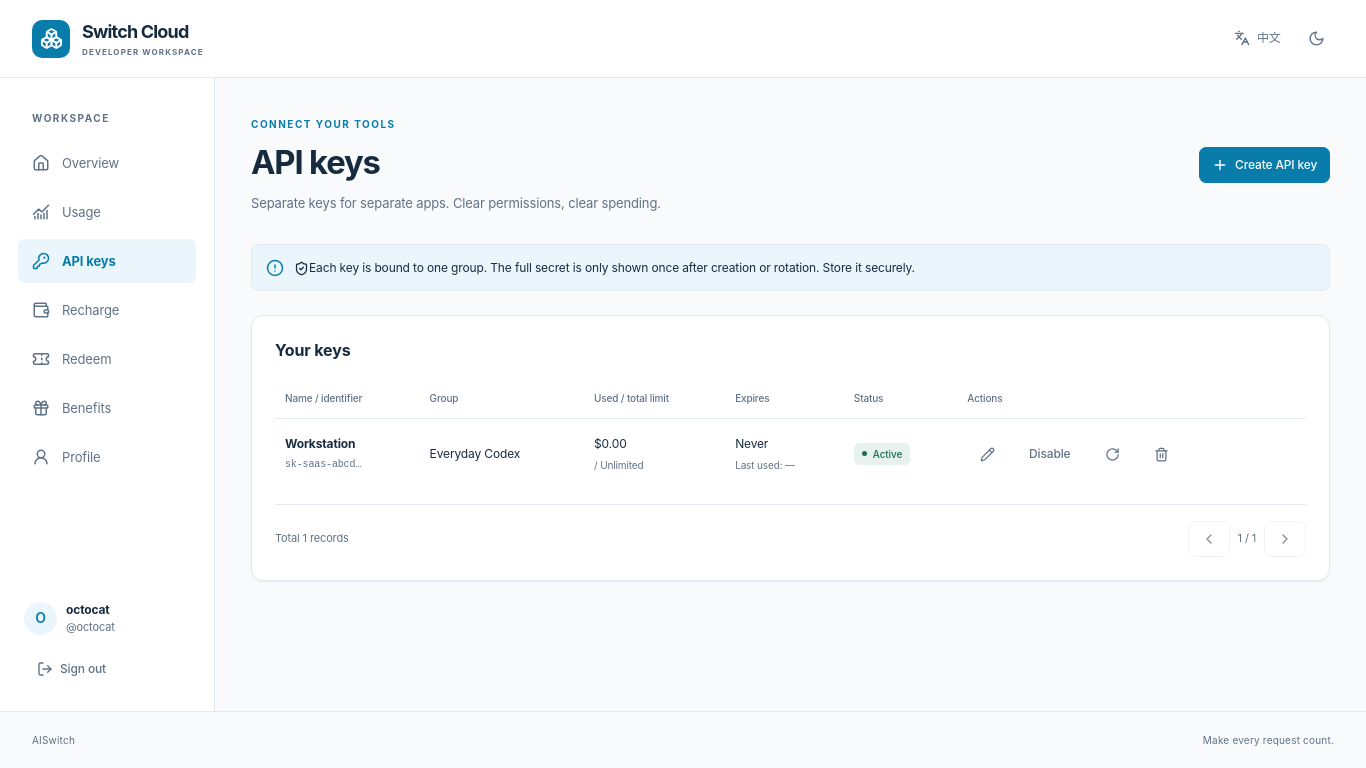
Test: SaaS user portal › creates a key with a fixed group and forgets the secret after closing
This screenshot has width=1366, height=768.
Click the button "Create API key". click: (1264, 165)
box: [1199,147,1330,183]
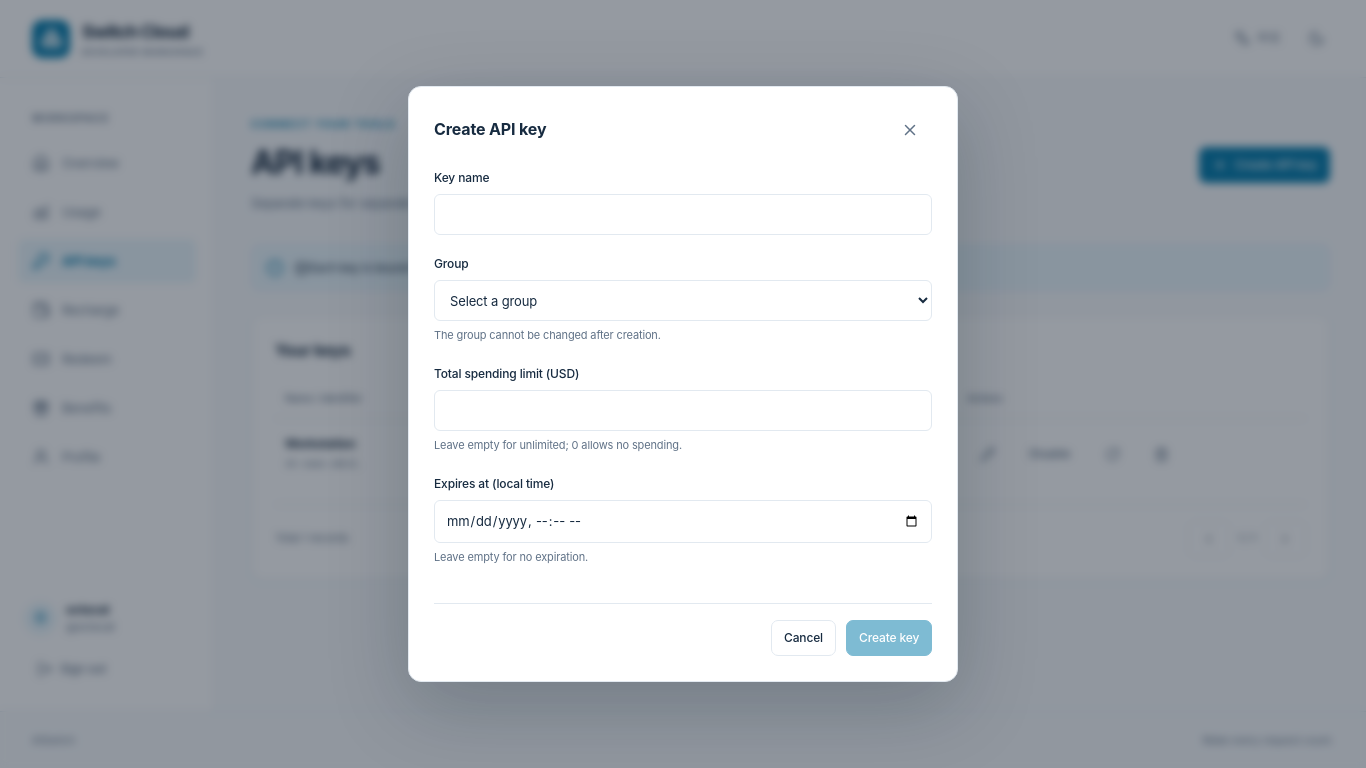
Type "Laptop" into the field labelled "Key name". click: (683, 214)
box: [434,194,932,235]
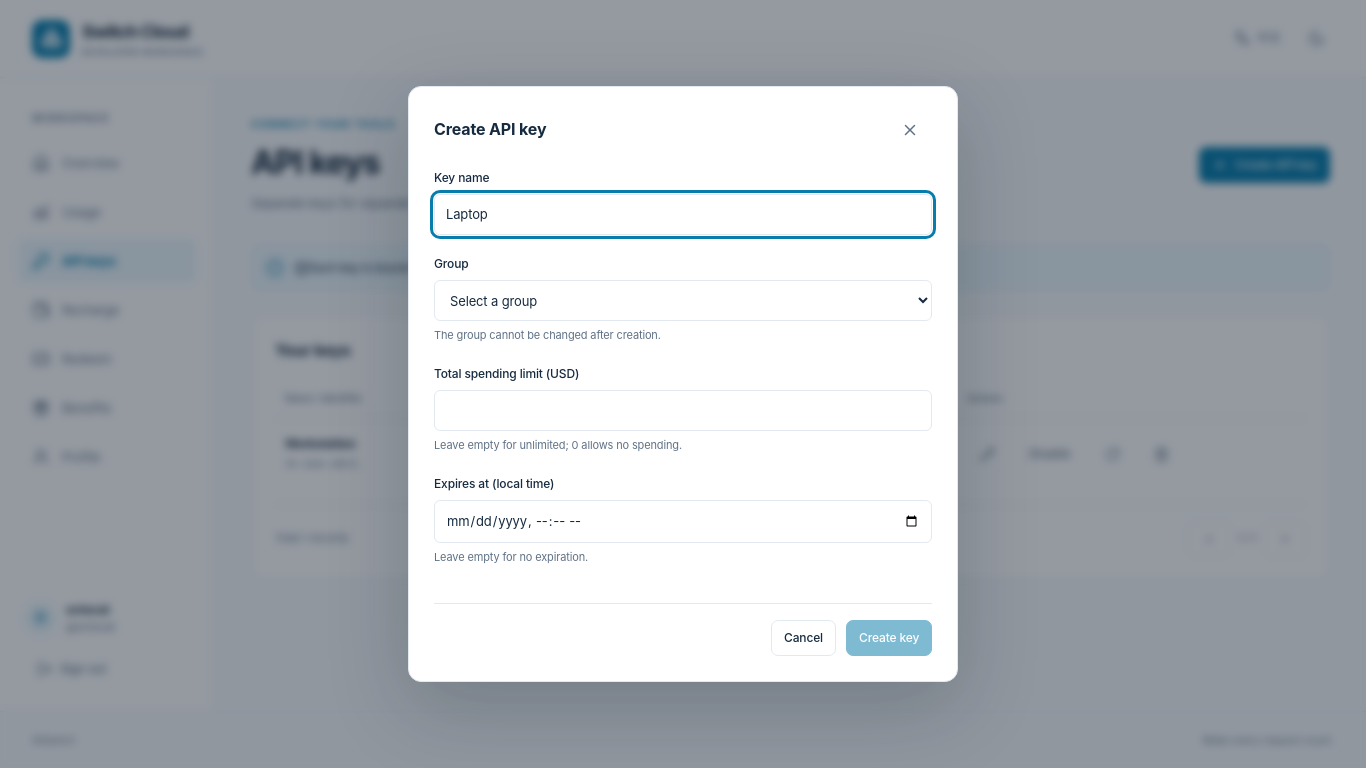
Select "Everyday Codex · codex" in the dropdown labelled "Group". click: (683, 301)
box: [434,280,932,321]
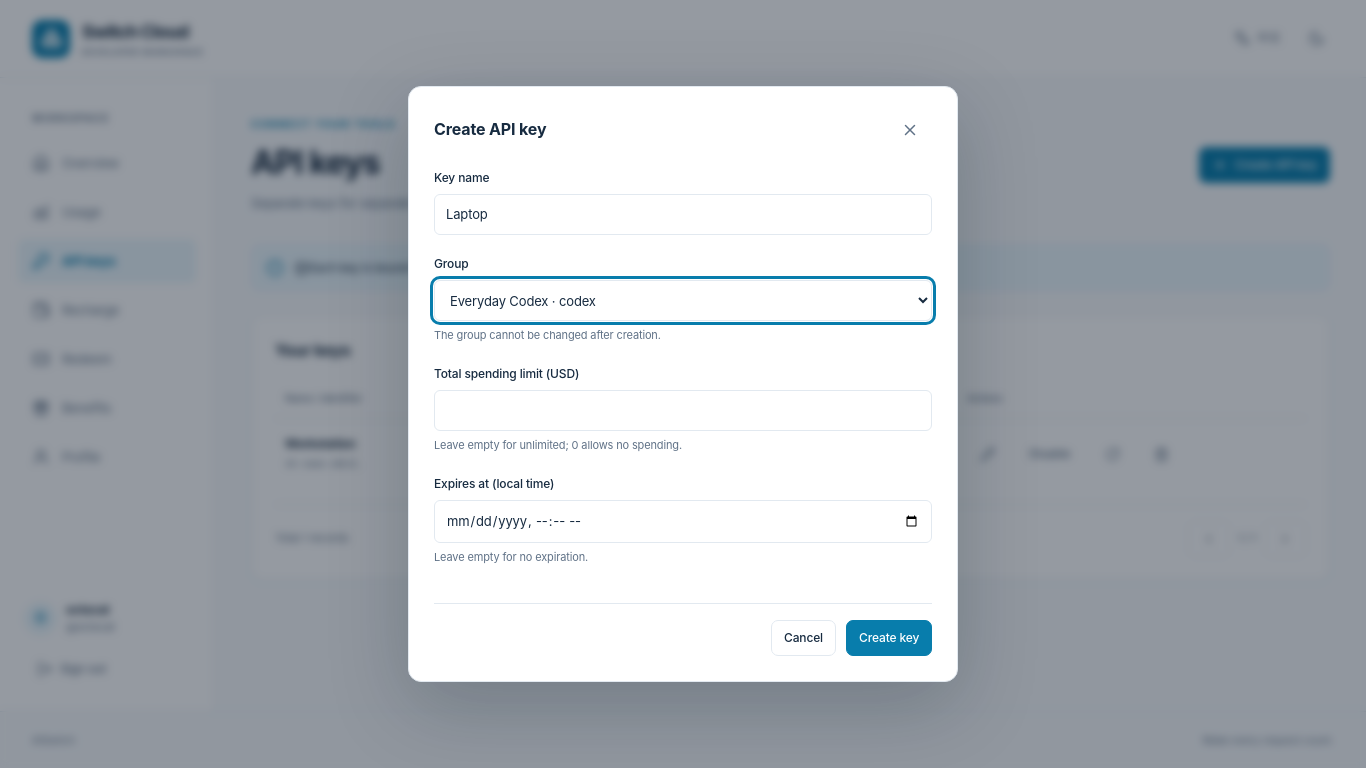
Click the button "Create key". click: (889, 638)
box: [846,620,932,656]
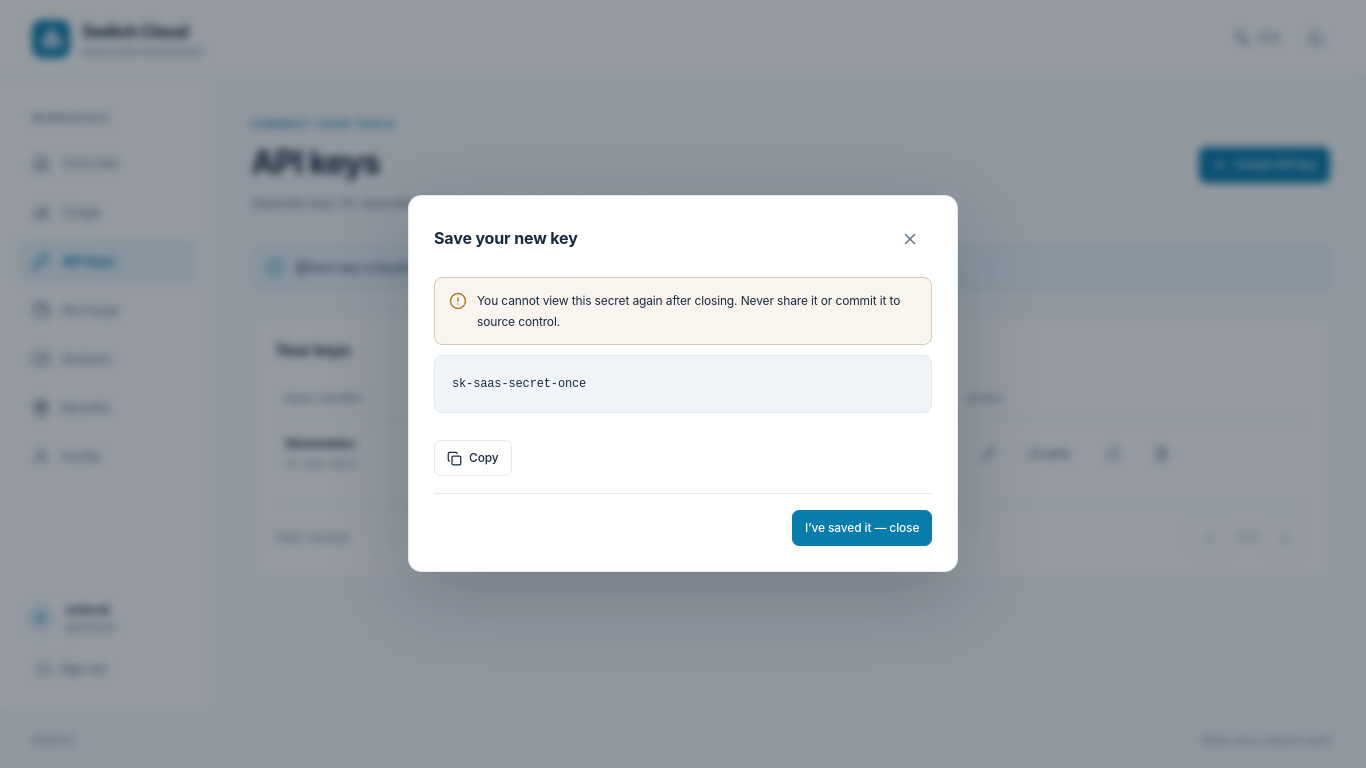
Check: the text "sk-saas-secret-once" is shown, box [452,377,586,391]
Click the button "I’ve saved it — close". click: (862, 529)
box: [792,511,932,547]
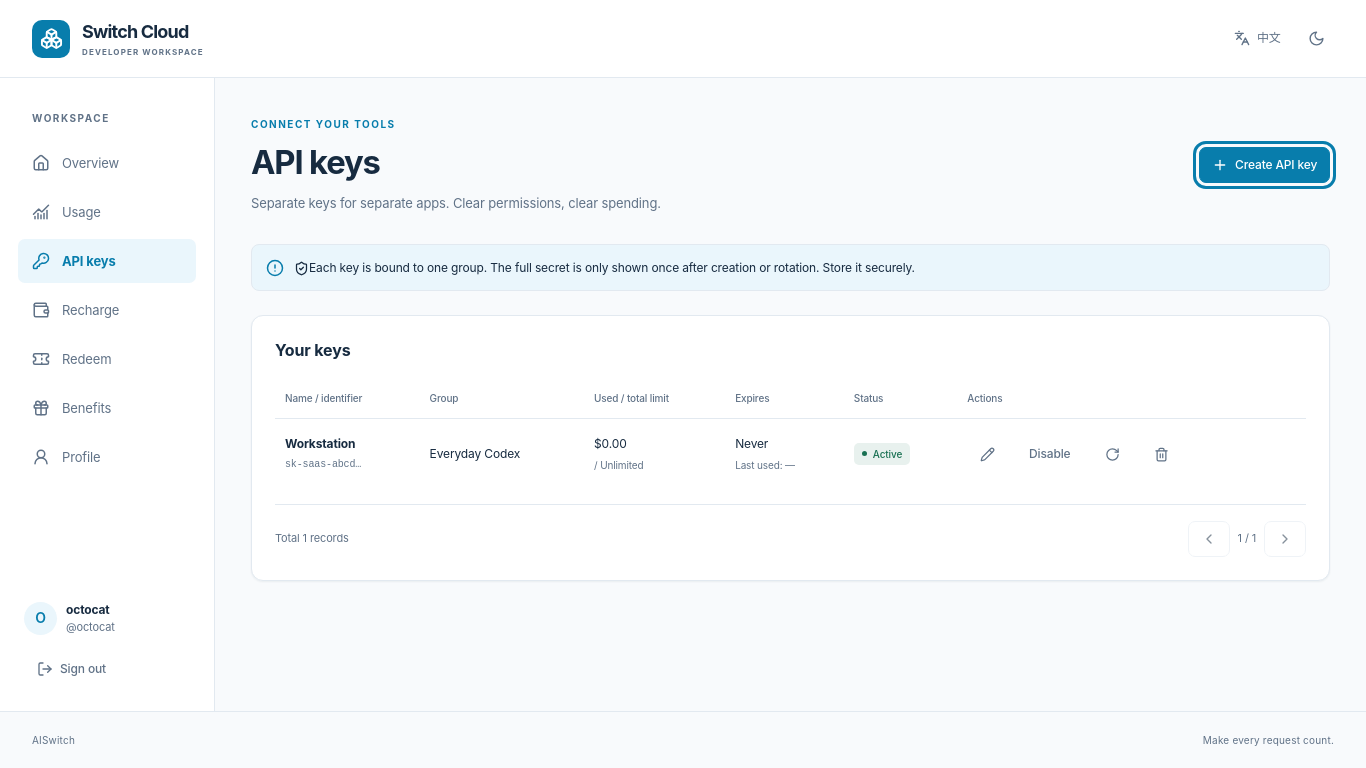
Check: the text "sk-saas-secret-once" is gone
